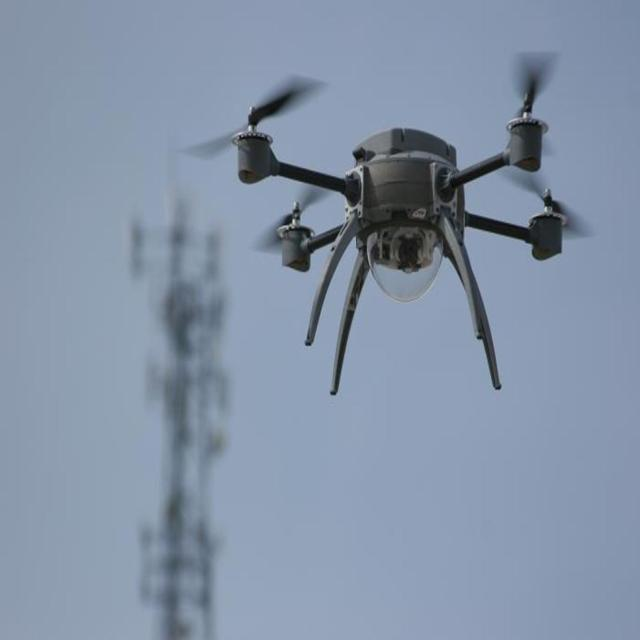drone: (230, 89, 569, 400)
